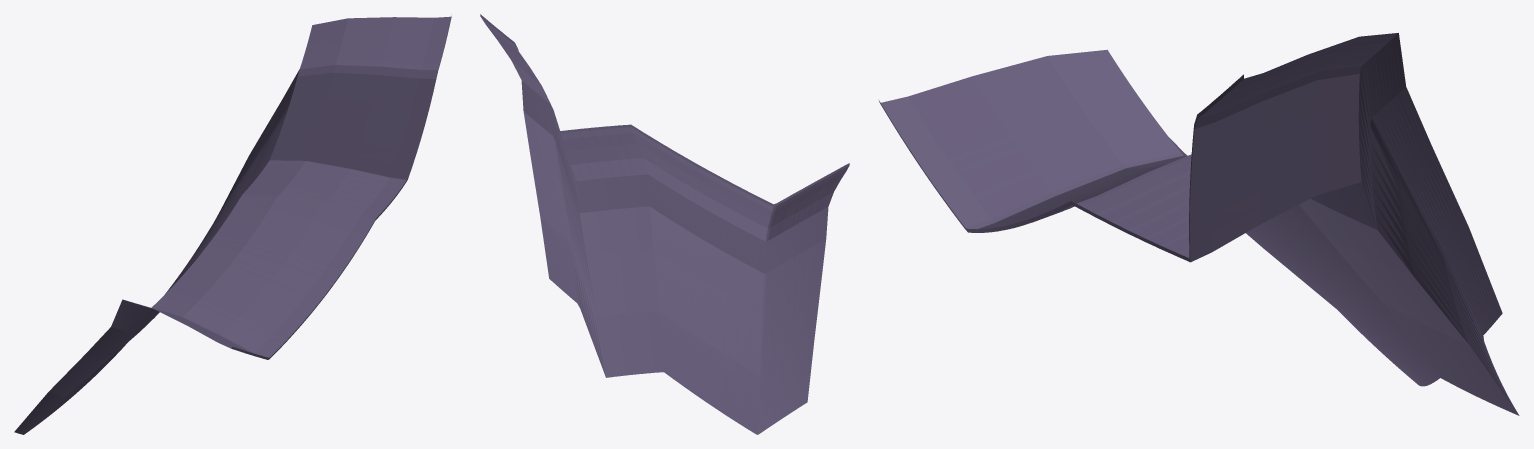
The model's file is South_Cliff.obj.
3 views of the same model, side by side, from view 1: azimuth 30°, elevation 25°; view 2: azimuth 150°, elevation 25°; view 3: azimuth 270°, elevation 25° (orthographic). The views are drawn at different scales.
Visible parts, largest first — view 1: A2_South_Cliff; view 2: A2_South_Cliff; view 3: A2_South_Cliff.
Boxes of the visible parts, <box> form: A2_South_Cliff: <box>14,16,451,434</box>; A2_South_Cliff: <box>480,14,849,434</box>; A2_South_Cliff: <box>879,33,1519,415</box>.
Size of the model in its own units: 41.38 by 35.18 by 32.87.
